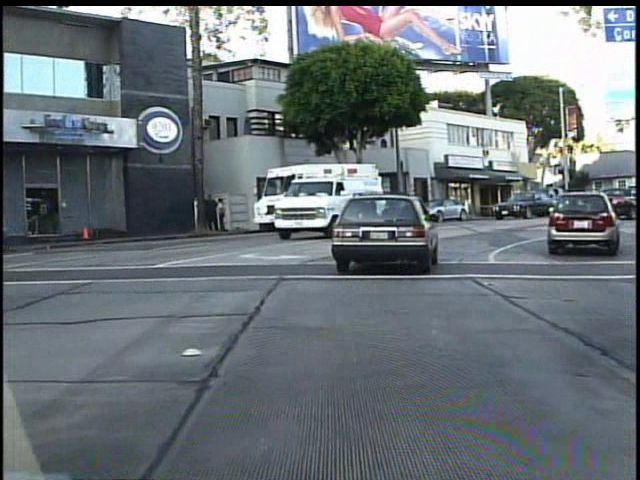person: (204, 191, 221, 234), (214, 195, 229, 233)
